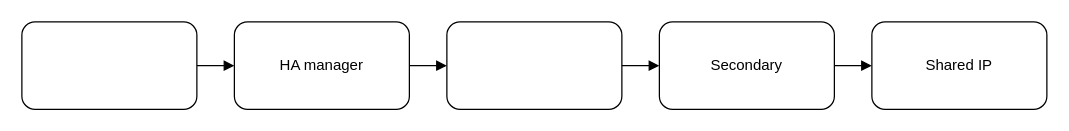
Some shapes in this 1069 by 131 pixel diagram are drawn without their labels. Here are the shapes that lost their labels. From the top down, the centre of each, then its label:
point 109,65: Primary
point 534,65: DB replication
